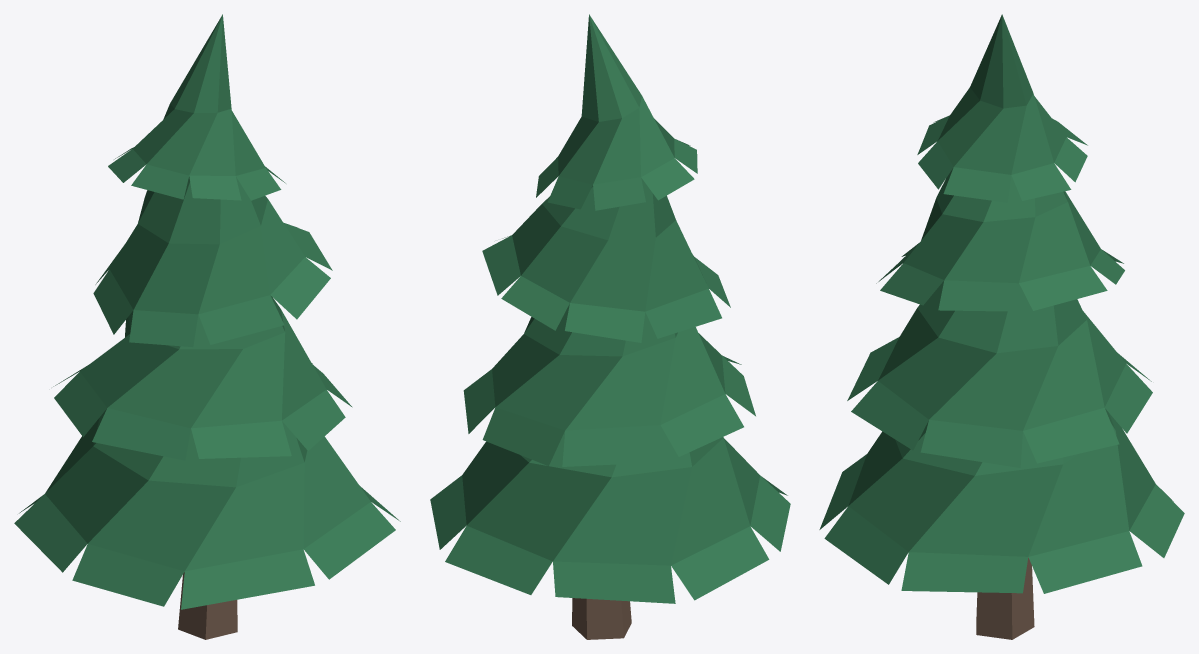
Rendered from spruce_small_1.obj.
3 views of the same model, side by side, from view 1: azimuth 30°, elevation 25°; view 2: azimuth 150°, elevation 25°; view 3: azimuth 270°, elevation 25° (orthographic).
Visible parts, largest first — view 1: spruce_small_1_Cylinder; view 2: spruce_small_1_Cylinder; view 3: spruce_small_1_Cylinder.
Boxes of the visible parts, <box> form: spruce_small_1_Cylinder: <box>14,14,400,639</box>; spruce_small_1_Cylinder: <box>430,14,790,639</box>; spruce_small_1_Cylinder: <box>819,14,1184,639</box>.
Bounding box in the file's own units: 1.6 × 3.01 × 1.61.
1 material, 1 textured.
